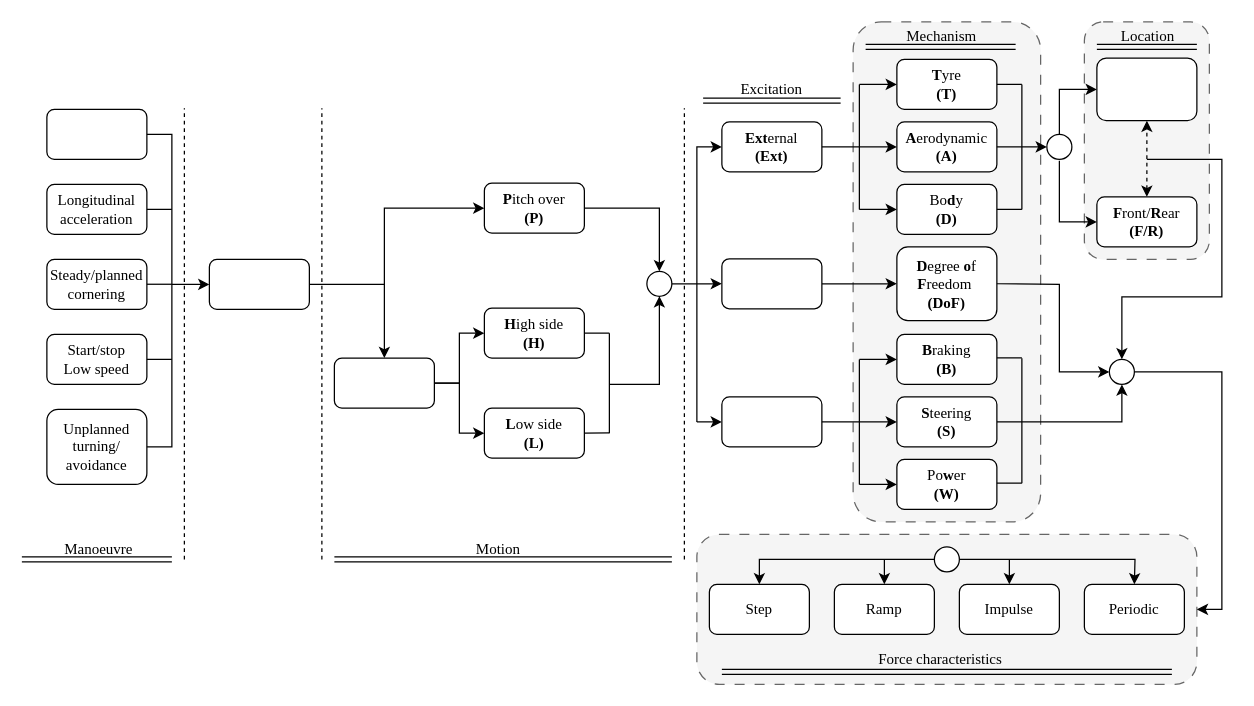
This 1254x706 diagram has some shape labels left out. The shapes that lost their labels are listed below. From the top down, each one's box as (x1, y1, x2, y2) in pixels, then its label:
(1096, 57, 1197, 121): Lon gitudinal/ Lat eral (Lon/Lat)
(46, 108, 147, 159): Straight running
(208, 258, 309, 309): Crash
(721, 258, 822, 309): I nternal (Int)
(333, 357, 434, 408): Roll over
(721, 396, 822, 447): Rid er (Rid)
